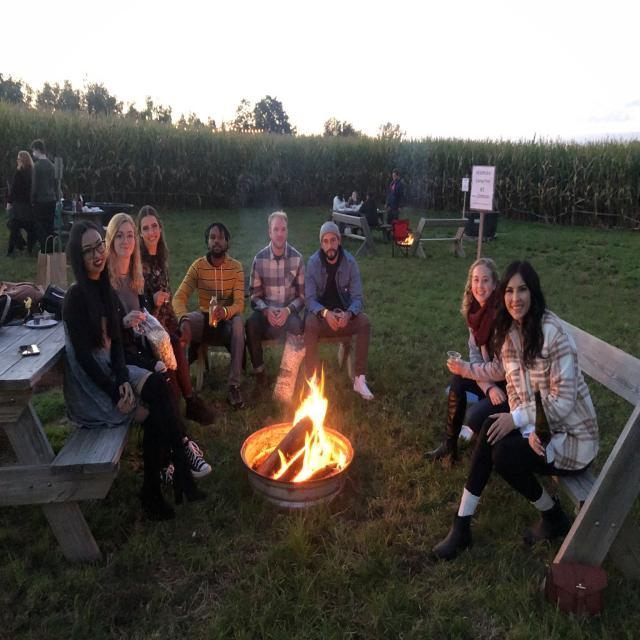Fire: (286, 366, 352, 479)
